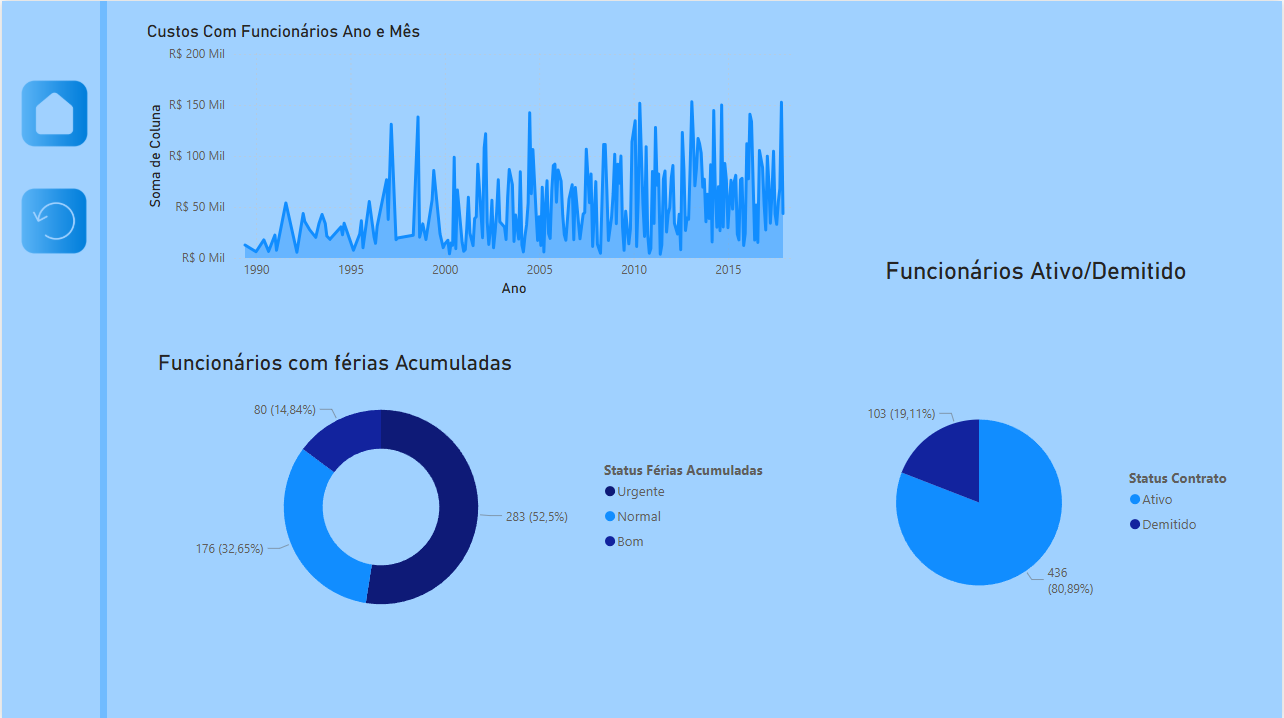

What the dashboard file says about the page in this screenshot:
{"tool":"powerbi","page":{"name":"RH","canvas":[1280,720],"ordinal":4},"visuals":[{"type":"stackedAreaChart","title":"Custos  Com Funcionários Ano e Mês","fields":{"Category":["BaseFuncionários.Data de Contratacao.Variation.Hierarquia de datas.Ano","BaseFuncionários.Data de Contratacao.Variation.Hierarquia de datas.Mês"],"Y":["Sum(BaseFuncionários.Coluna)"]},"box":[139.6,20.2,659.4,280.1],"z":0},{"type":"image","box":[11.4,174,81.8,91.9],"z":0,"group":"g1"},{"type":"image","box":[11.4,67.6,82.9,88.5],"z":1000,"group":"g1"},{"type":"donutChart","title":"Funcionários com férias Acumuladas","fields":{"Category":["BaseFuncionários.Coluna 2"],"Y":["CountNonNull(BaseFuncionários.Nome Completo)"]},"box":[151,349.5,626.9,289.8],"z":1000},{"type":"pieChart","title":"Funcionários Ativo/Demitido","fields":{"Y":["CountNonNull(BaseFuncionários.Cargo)"],"Category":["BaseFuncionários.Status Contrato"]},"box":[821.9,256.4,424.1,463.6],"z":2000},{"type":"shape","box":[98.3,0,7,720],"z":3000},{"type":"group","id":"g1","title":"Grupo 1","box":[11.4,67.6,83.4,197.6],"z":4000}]}

Visuals, with their boxes in screenshot pixels (x1, y1, x2, y2), scaled from the page's 1280x720 canvas onto the 1284x718 screenshot:
"Custos  Com Funcionários Ano e Mês" stackedAreaChart: select_region(140, 20, 801, 299)
image: select_region(11, 174, 93, 265)
image: select_region(11, 67, 95, 156)
"Funcionários com férias Acumuladas" donutChart: select_region(151, 349, 780, 638)
"Funcionários Ativo/Demitido" pieChart: select_region(824, 256, 1250, 717)
shape: select_region(99, 0, 106, 717)
"Grupo 1" group: select_region(11, 67, 95, 264)
